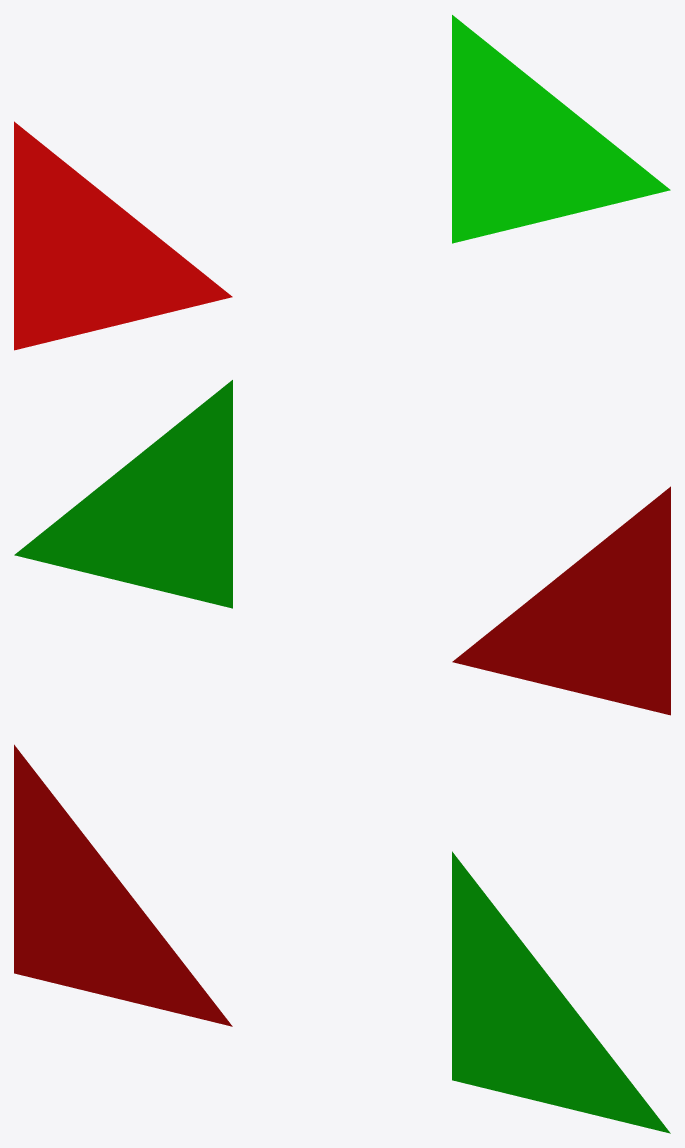
Rendered from twoprim.glb.
3 renders of one model, top to bottom at view 1: azimuth 30°, elevation 25°; view 2: azimuth 150°, elevation 25°; view 3: azimuth 330°, elevation 25°, orthographic.
Visible parts, largest first — view 1: TwoPrim; view 2: TwoPrim; view 3: TwoPrim.
Boxes of the visible parts, box(x1,y1,x2,y2) form: TwoPrim: box(14, 15, 670, 350); TwoPrim: box(14, 380, 670, 715); TwoPrim: box(14, 744, 670, 1133).
Size of the model in its own units: 3 by 1 by 0.
